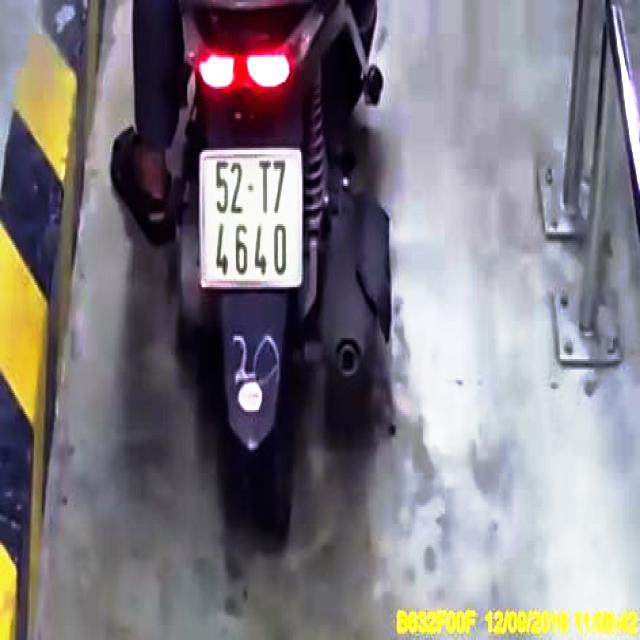license_plate: (204, 152, 301, 285)
